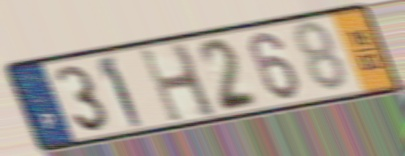1: (96, 54, 147, 131)
2: (197, 36, 263, 115)
3: (55, 64, 112, 133)
6: (247, 30, 302, 103)
8: (290, 19, 354, 97)
H: (136, 40, 223, 127)
